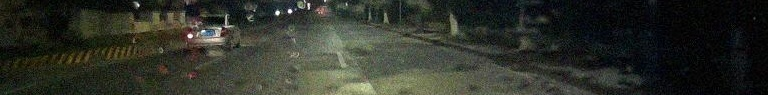L_light: (187, 28, 194, 39)
R_light: (221, 28, 227, 37)
T_light: (206, 17, 214, 18)
night-left: (186, 14, 228, 51)
